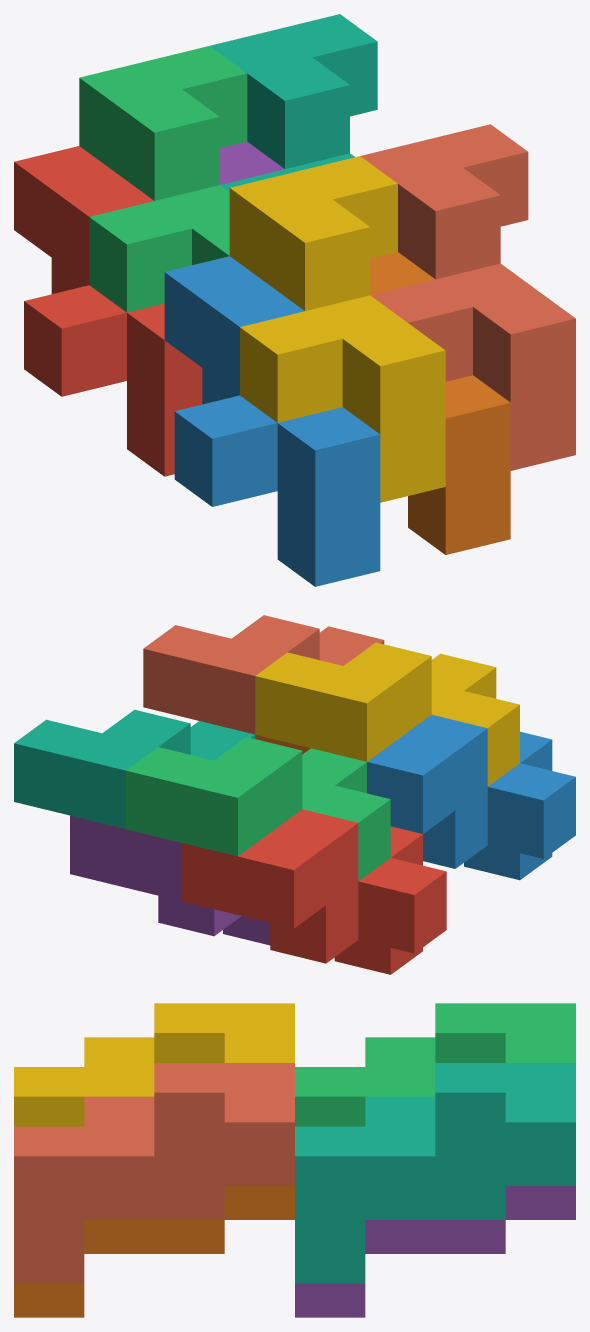
The model's file is tiling.obj.
The picture shows the model from 3 angles, top to bottom: view 1: azimuth 30°, elevation 25°; view 2: azimuth 150°, elevation 25°; view 3: azimuth 270°, elevation 25°; orthographic projection. The views are drawn at different scales.
Visible parts, largest first — view 1: copy_1_domain_4, copy_1_domain_8, copy_1_domain_2, copy_1_domain_3, copy_1_domain_1, copy_1_domain_7, copy_1_domain_6, copy_1_domain_5; view 2: copy_1_domain_1, copy_1_domain_2, copy_1_domain_4, copy_1_domain_3, copy_1_domain_8, copy_1_domain_7, copy_1_domain_5; view 3: copy_1_domain_7, copy_1_domain_8, copy_1_domain_3, copy_1_domain_4, copy_1_domain_5, copy_1_domain_6.
Boxes of the visible parts, x1,y1,x2,y2 form: copy_1_domain_4: (229,156,445,502); copy_1_domain_8: (360,124,575,470); copy_1_domain_2: (164,256,380,586); copy_1_domain_3: (79,46,247,312); copy_1_domain_1: (14,146,202,476); copy_1_domain_7: (210,14,377,191); copy_1_domain_6: (370,252,510,554); copy_1_domain_5: (219,141,284,184); copy_1_domain_1: (182,809,446,974); copy_1_domain_2: (367,714,575,880); copy_1_domain_4: (255,642,519,786); copy_1_domain_3: (126,737,390,881); copy_1_domain_8: (143,615,384,734); copy_1_domain_7: (14,709,255,828); copy_1_domain_5: (70,815,270,945); copy_1_domain_7: (295,1063,575,1283); copy_1_domain_8: (14,1063,294,1283); copy_1_domain_3: (295,1003,575,1126); copy_1_domain_4: (14,1003,294,1126); copy_1_domain_5: (295,1186,575,1317); copy_1_domain_6: (14,1186,294,1317).
Bounding box in the file's own units: 6 × 4 × 8.
